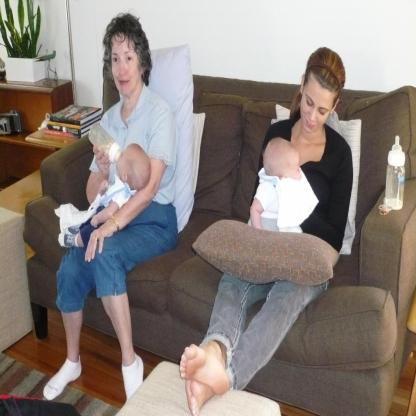book: (48, 104, 102, 126)
